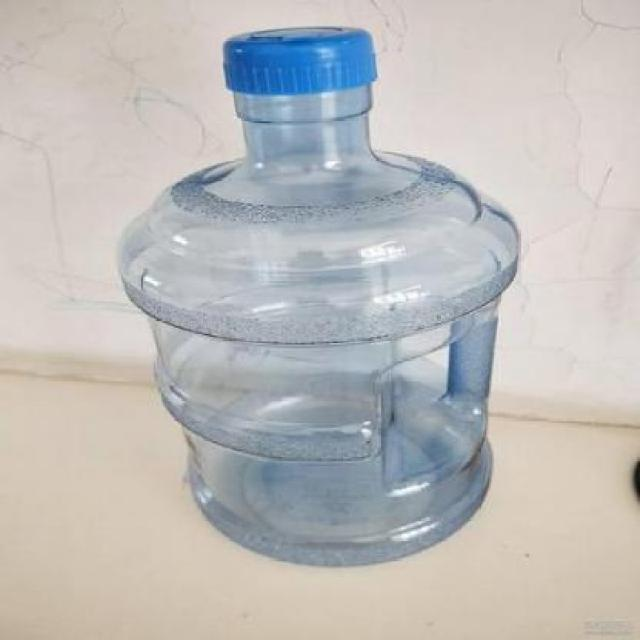coolerbottle: (109, 20, 525, 579)
